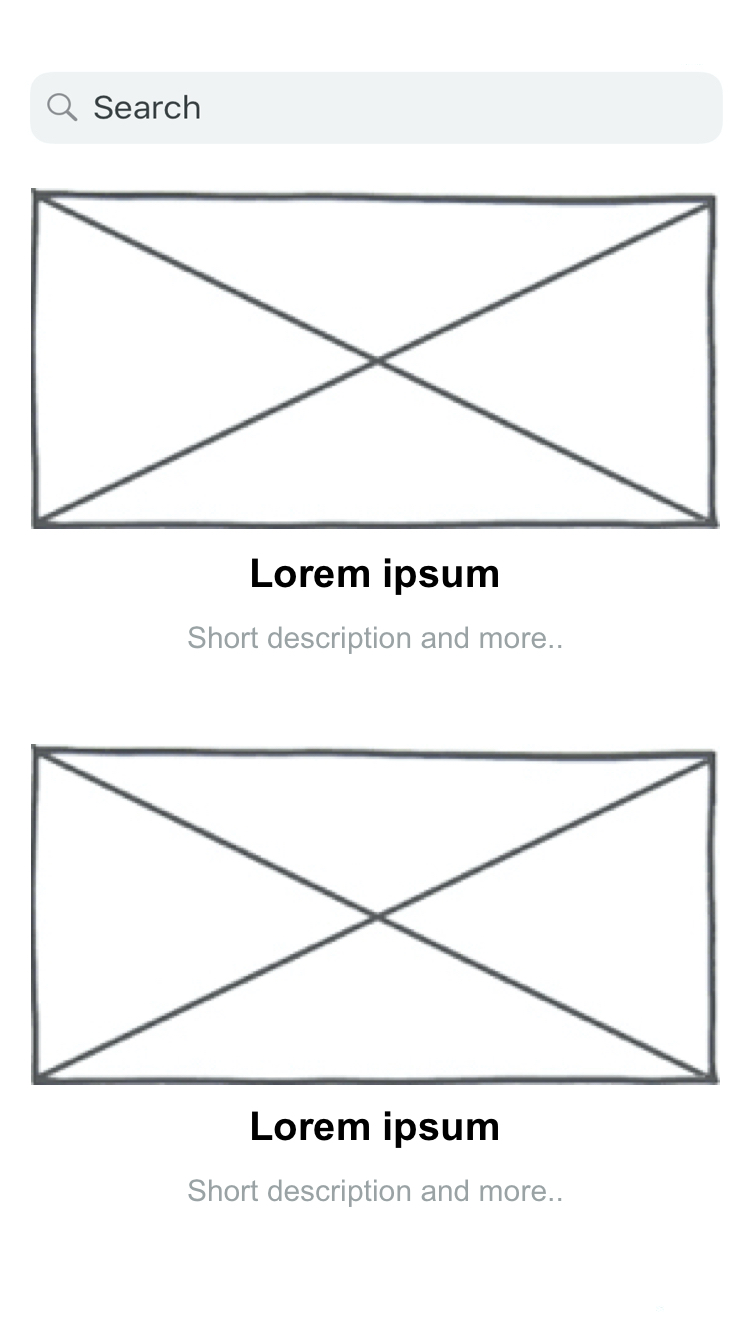EditText: (30, 72, 724, 146)
Icon: (47, 93, 79, 123)
Image: (30, 743, 721, 1087), (30, 188, 721, 532)
Text: (188, 626, 563, 655), (188, 1178, 563, 1207), (252, 1110, 500, 1150), (252, 558, 499, 596), (94, 95, 202, 121)
